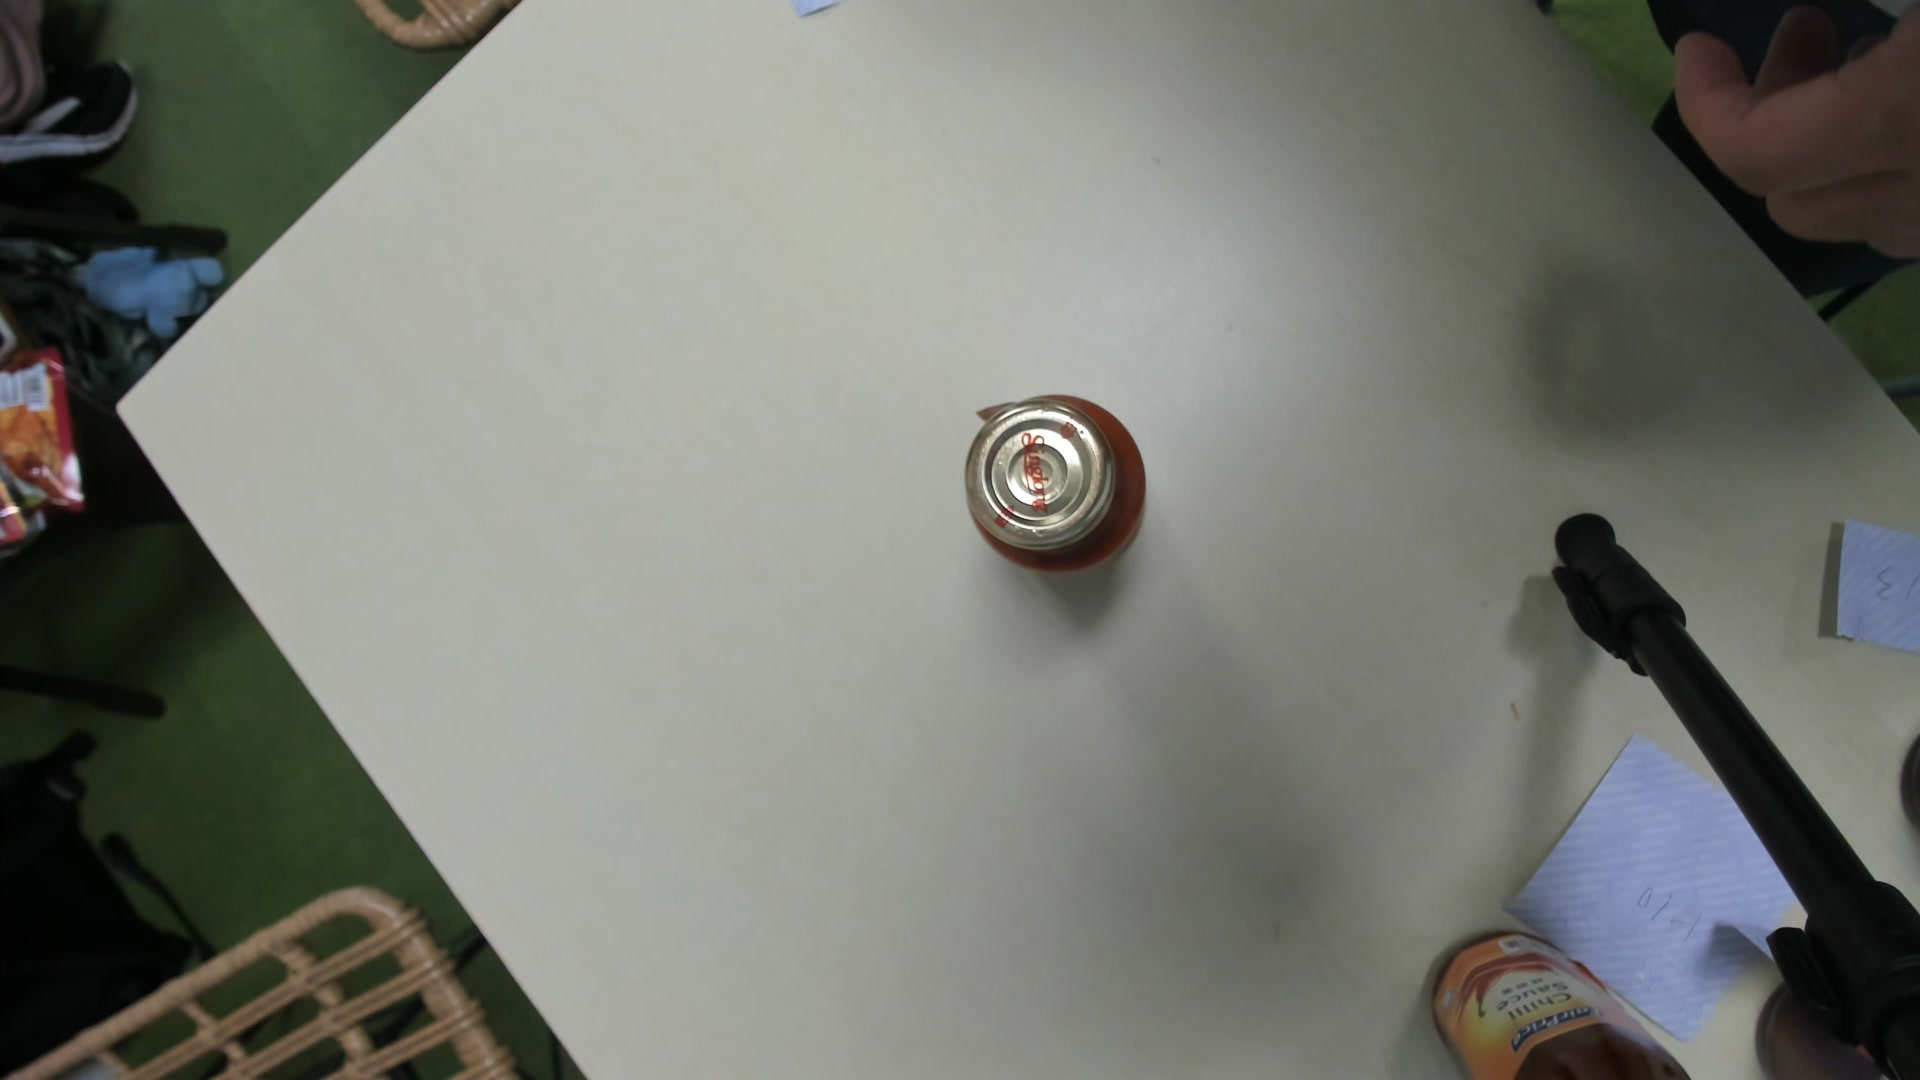KetchupChillSauce_200-299g_Halal_NonHealthy: (959, 396, 1149, 578)
